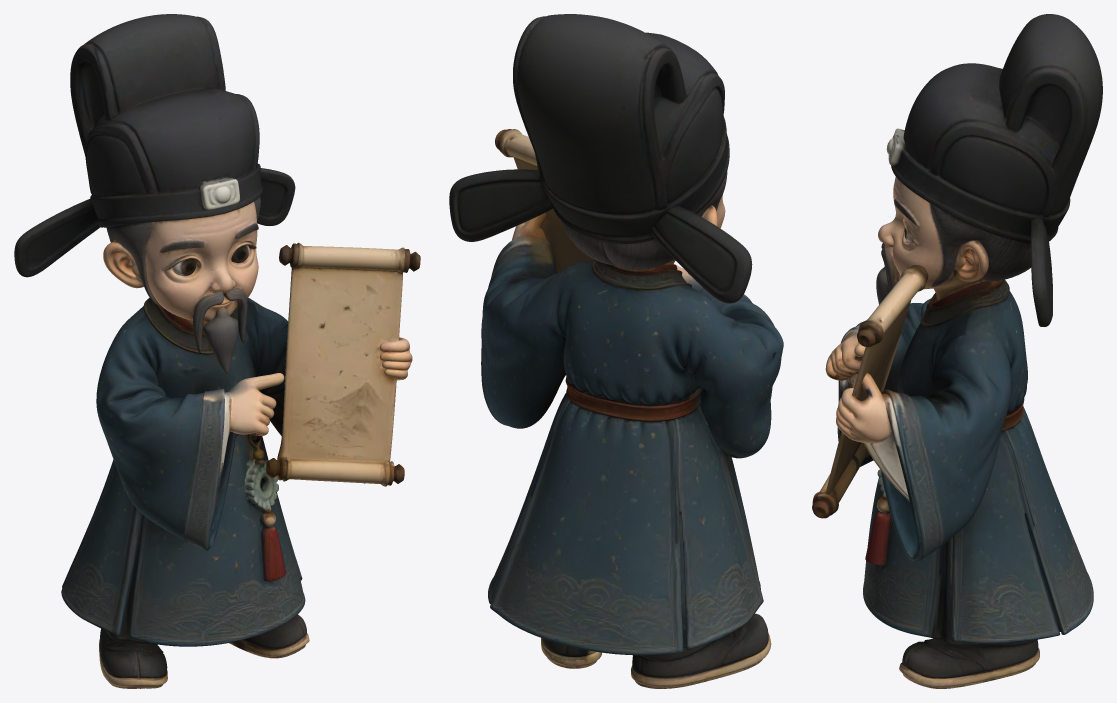
File: teach.glb
3 renders of one model, left to right at view 1: azimuth 30°, elevation 25°; view 2: azimuth 150°, elevation 25°; view 3: azimuth 270°, elevation 25°, orthographic. The views are drawn at different scales.
Visible parts, largest first — view 1: node_0; view 2: node_0; view 3: node_0.
Boxes of the visible parts, box(x1,y1,x2,y2) form: node_0: box(14, 14, 420, 688); node_0: box(449, 14, 783, 688); node_0: box(812, 14, 1102, 688).
Size of the model in its own units: 0.6151 by 1.11 by 0.4797.
1 material, 1 textured.
